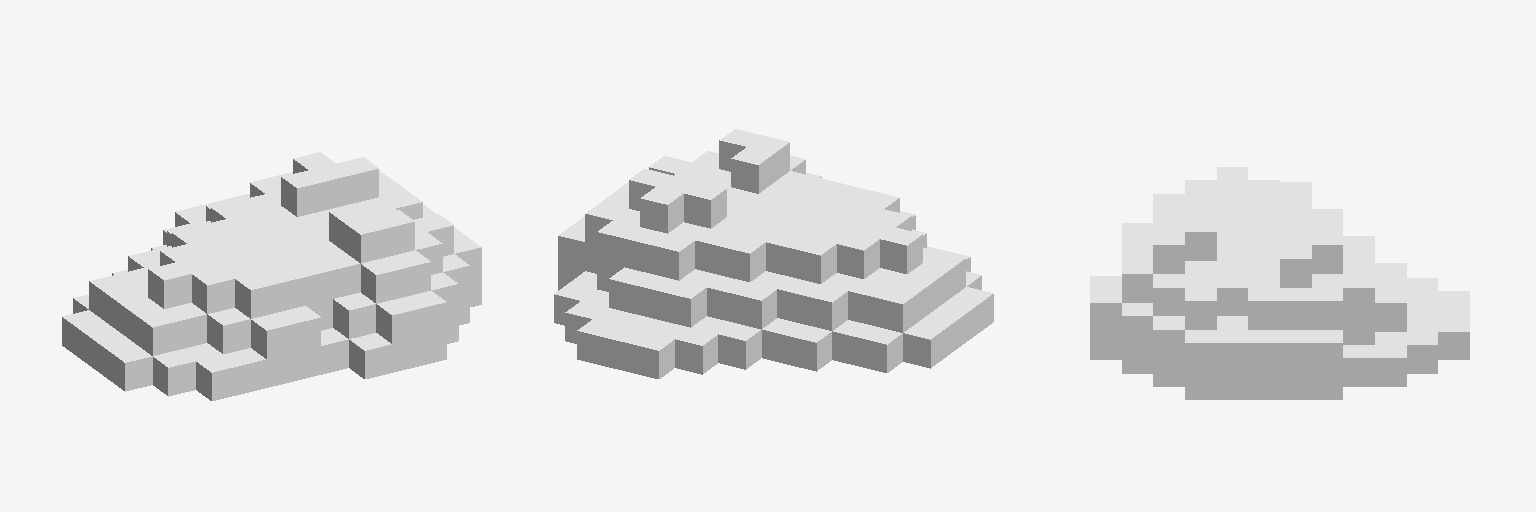
The model's file is Stone2_M.obj.
3 views of the same model, side by side, from view 1: azimuth 30°, elevation 25°; view 2: azimuth 150°, elevation 25°; view 3: azimuth 270°, elevation 25° (orthographic).
Parts seen in each view (by area): view 1: Stone2_M; view 2: Stone2_M; view 3: Stone2_M.
Boxes of the visible parts, x1=… form: Stone2_M: x1=62, y1=152, x2=481, y2=400; Stone2_M: x1=554, y1=129, x2=993, y2=378; Stone2_M: x1=1090, y1=167, x2=1469, y2=399.
Size of the model in its own units: 1.3 by 0.4 by 1.2.